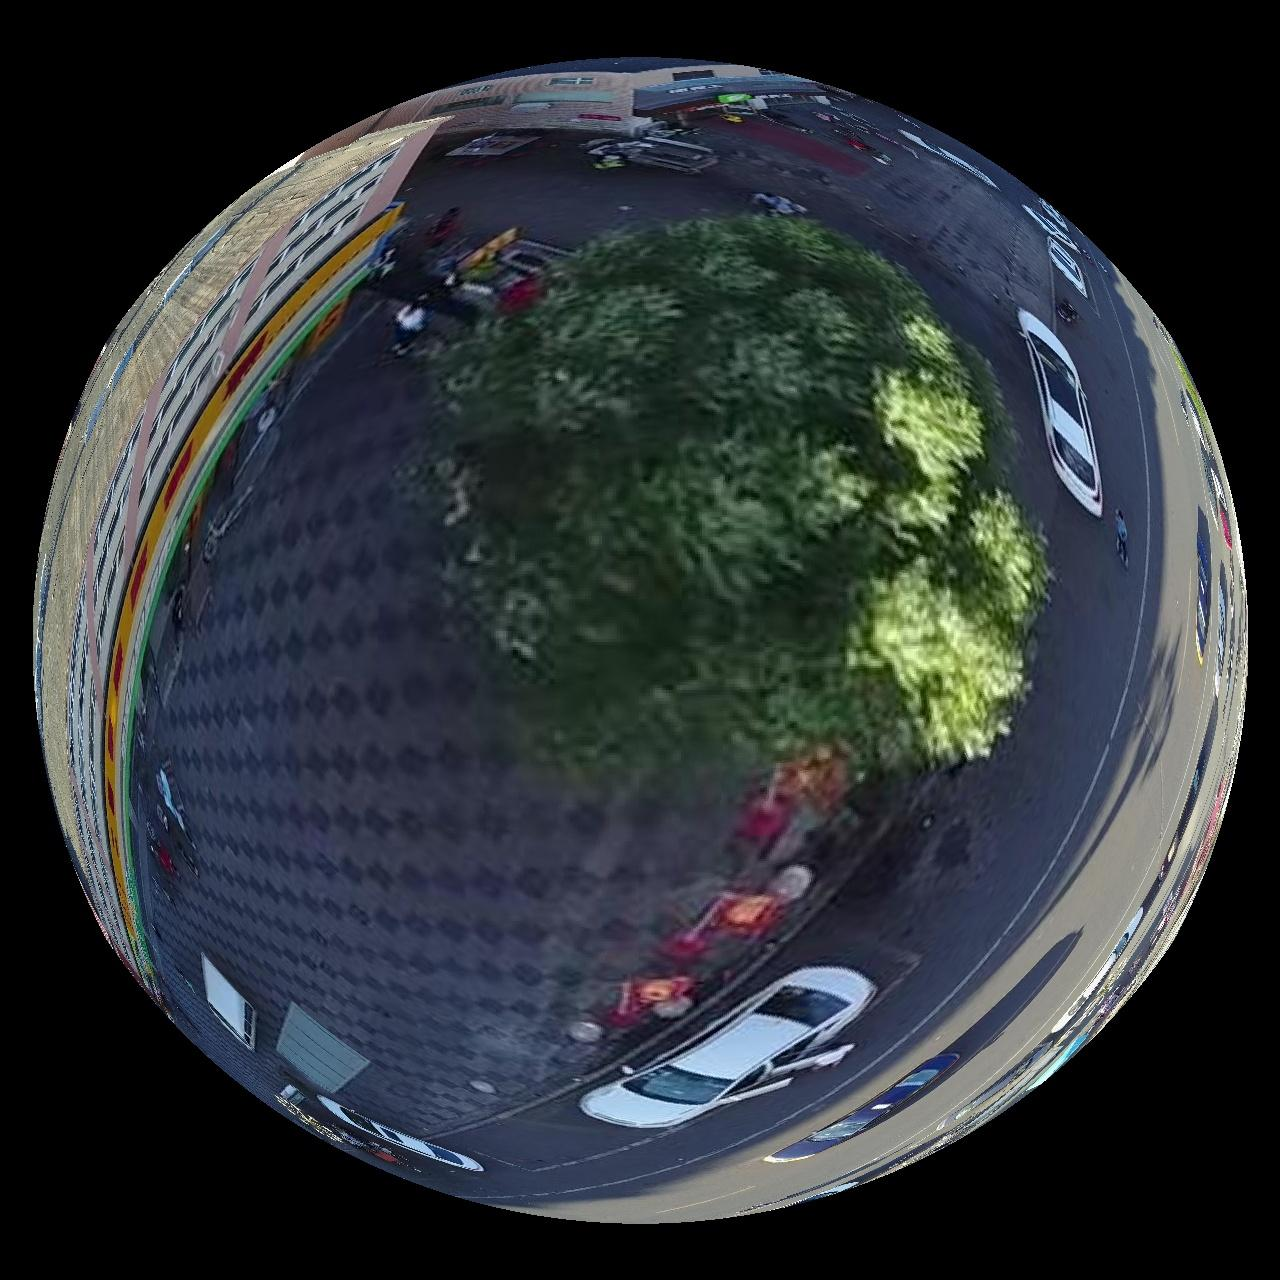building: (34, 118, 441, 995), (363, 59, 828, 131)
cars: (580, 967, 878, 1131), (768, 1055, 960, 1165), (1020, 308, 1103, 517), (316, 1097, 484, 1173), (275, 1005, 370, 1095), (585, 121, 719, 172), (200, 954, 253, 1050), (1049, 236, 1090, 297)
trees: (415, 216, 1050, 873)
